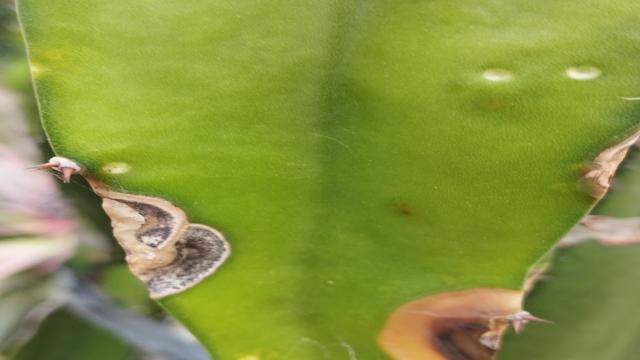stemcanker: (466, 59, 523, 93), (555, 54, 610, 88), (100, 155, 139, 181)
